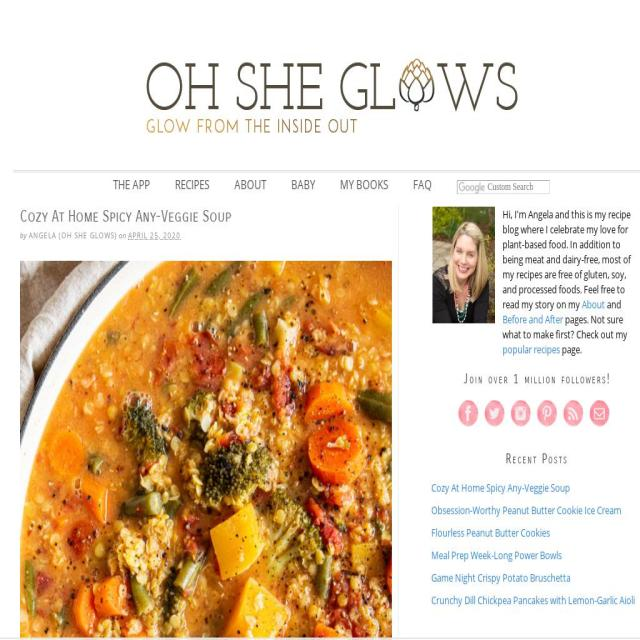button: (328, 172, 400, 196), (100, 172, 162, 196), (162, 172, 222, 196), (222, 172, 279, 196), (278, 172, 328, 196), (400, 172, 444, 196)
field: (457, 180, 550, 194)
heading: (20, 207, 231, 226), (431, 372, 640, 386), (431, 452, 640, 466)
image: (20, 261, 392, 640), (433, 207, 495, 323), (458, 400, 478, 427), (484, 400, 504, 427), (510, 400, 530, 427), (537, 400, 557, 427), (563, 400, 583, 427), (590, 400, 610, 427)
link: (431, 592, 635, 608), (431, 502, 621, 518), (431, 569, 571, 585), (431, 546, 562, 562), (431, 480, 570, 495), (431, 524, 550, 540), (503, 312, 563, 326), (502, 342, 560, 356), (582, 296, 605, 312)
text: (20, 36, 640, 151), (502, 206, 630, 312), (502, 312, 628, 342), (29, 229, 117, 241), (340, 176, 388, 192), (128, 229, 181, 241), (113, 176, 150, 192), (175, 176, 209, 192), (234, 176, 266, 192), (291, 176, 315, 192), (560, 342, 582, 356), (413, 176, 432, 192), (605, 296, 621, 312), (117, 229, 128, 241), (20, 229, 29, 241)
